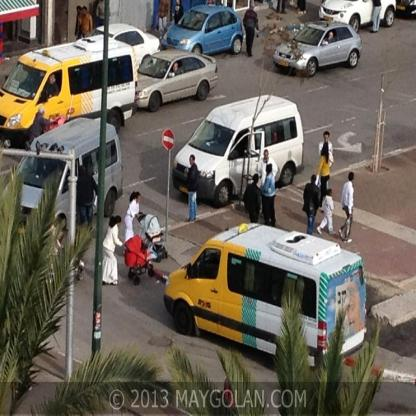Car: (134, 49, 219, 113), (273, 20, 363, 78), (161, 3, 245, 56), (88, 24, 161, 70), (318, 1, 397, 34), (396, 1, 416, 19)
